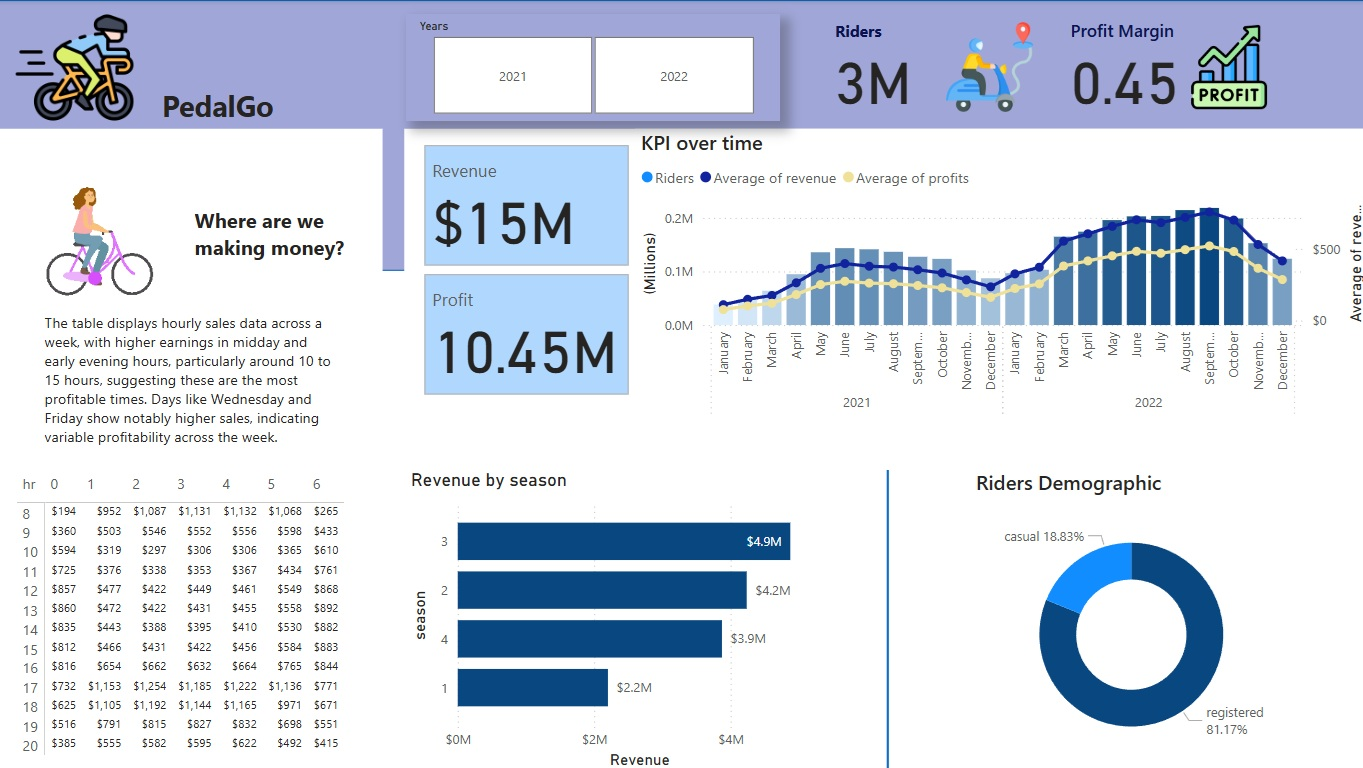

The page's visual inventory and layout, read from the dashboard file:
{"tool":"powerbi","page":{"name":"Page 1","canvas":[1280,720],"ordinal":0},"visuals":[{"type":"shape","box":[0,0,1280,251.9],"z":0},{"type":"cardVisual","fields":{"Data":["Sum(Query1.riders)"]},"box":[0,119.4,362.3,601],"z":1000},{"type":"cardVisual","fields":{"Data":["Sum(Query1.riders)"]},"box":[383,435.7,897,284.3],"z":2000},{"type":"cardVisual","fields":{"Data":["Sum(Query1.riders)"]},"box":[382.9,119.4,897.4,285.4],"z":3000},{"type":"cardVisual","fields":{"Data":["Sum(Query1.riders)"]},"box":[16.5,141.3,166,150.9],"z":4000},{"type":"pivotTable","fields":{"Values":["Avg(Query1.revenue)"],"Columns":["Query1.weekday"],"Rows":["Query1.hr"]},"box":[17,435.7,331.9,284.3],"z":5000},{"type":"textbox","box":[182.1,187.2,165.1,151.5],"z":6000},{"type":"textbox","box":[42.5,286,282.6,151.5],"z":7000},{"type":"lineClusteredColumnComboChart","title":"KPI over time","fields":{"Category":["Query1.dteday.Variation.Date Hierarchy.Year","Query1.dteday.Variation.Date Hierarchy.Month"],"Y":["Sum(Query1.riders)"],"Y2":["Avg(Query1.revenue)","Avg(Query1.profits)"]},"box":[597.2,119.7,682.8,276.5],"z":8000},{"type":"clusteredBarChart","fields":{"Category":["Query1.season"],"Y":["Sum(Query1.revenue)"]},"box":[383.4,436.2,404.8,283.6],"z":9000},{"type":"donutChart","title":"Riders Demographic","fields":{"Category":["Query1.rider_type"],"Y":["Sum(Query1.riders)"]},"box":[908.9,435.7,299.6,284.3],"z":10000},{"type":"shape","box":[682.5,437.4,299.6,282.6],"z":11000},{"type":"cardVisual","title":"KPI over time","fields":{"Data":["Sum(Query1.revenue)","Sum(Query1.profits)"]},"box":[396.3,129.7,201,243.7],"z":12000},{"type":"cardVisual","fields":{"Data":["Sum(Query1.riders)","Query1.Profit Margin"]},"box":[766.9,0,441.9,124],"z":13000},{"type":"columnChart","fields":{"Category":["Query1.yr"]},"box":[731.2,319.3,300.8,300.8],"z":14000},{"type":"textbox","box":[152.3,75.5,174.3,54.9],"z":16000},{"type":"slicer","fields":{"Values":["Query1.Years"]},"box":[383.4,12.8,347.8,99.8],"z":17000},{"type":"image","box":[16.5,0,119.4,126.2],"z":17001}]}

Visuals, with their boxes in screenshot pixels (x1, y1, x2, y2), scaled from the page's 1280x720 canvas onto the 1363x768 screenshot:
shape: crop(0, 0, 1362, 269)
cardVisual - Sum(Query1.riders): crop(0, 127, 386, 767)
cardVisual - Sum(Query1.riders): crop(408, 465, 1362, 767)
cardVisual - Sum(Query1.riders): crop(408, 127, 1362, 432)
cardVisual - Sum(Query1.riders): crop(18, 151, 194, 312)
pivotTable - Avg(Query1.revenue) x Query1.weekday: crop(18, 465, 372, 767)
textbox: crop(194, 200, 370, 361)
textbox: crop(45, 305, 346, 467)
"KPI over time" lineClusteredColumnComboChart: crop(636, 128, 1362, 423)
clusteredBarChart - Query1.season x Sum(Query1.revenue): crop(408, 465, 839, 767)
"Riders Demographic" donutChart: crop(968, 465, 1287, 767)
shape: crop(727, 467, 1046, 767)
"KPI over time" cardVisual: crop(422, 138, 636, 398)
cardVisual - Sum(Query1.riders) x Query1.Profit Margin: crop(817, 0, 1287, 132)
columnChart - Query1.yr: crop(779, 341, 1099, 661)
textbox: crop(162, 81, 348, 139)
slicer - Query1.Years: crop(408, 14, 779, 120)
image: crop(18, 0, 145, 135)
